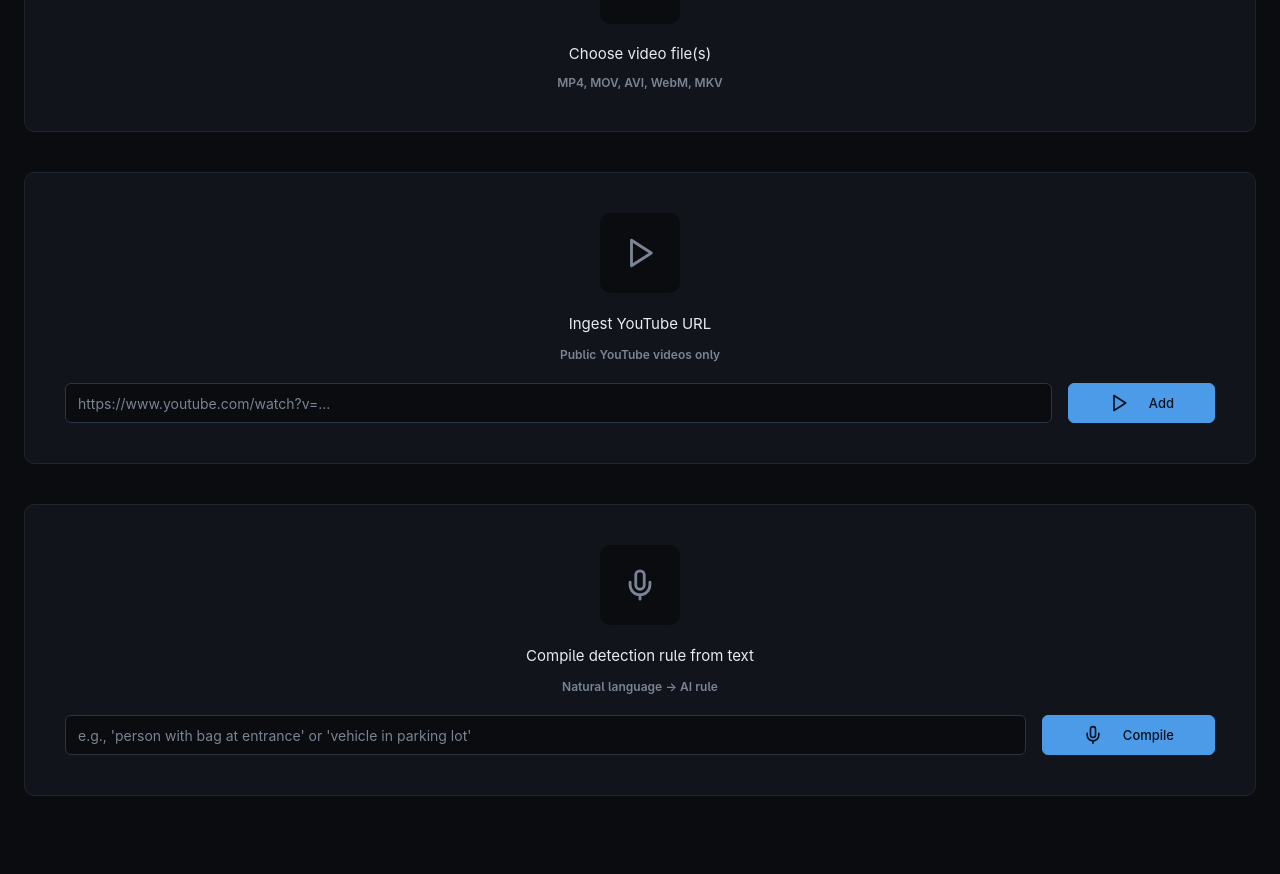
Scenario: the upload page › sends the rule text and the site, and shows the rule the product answered with
(page scrolled)
Type "person with bag at entrance" into the field with placeholder "person with bag at entrance". click: x=545, y=735
box: [65,715,1026,755]
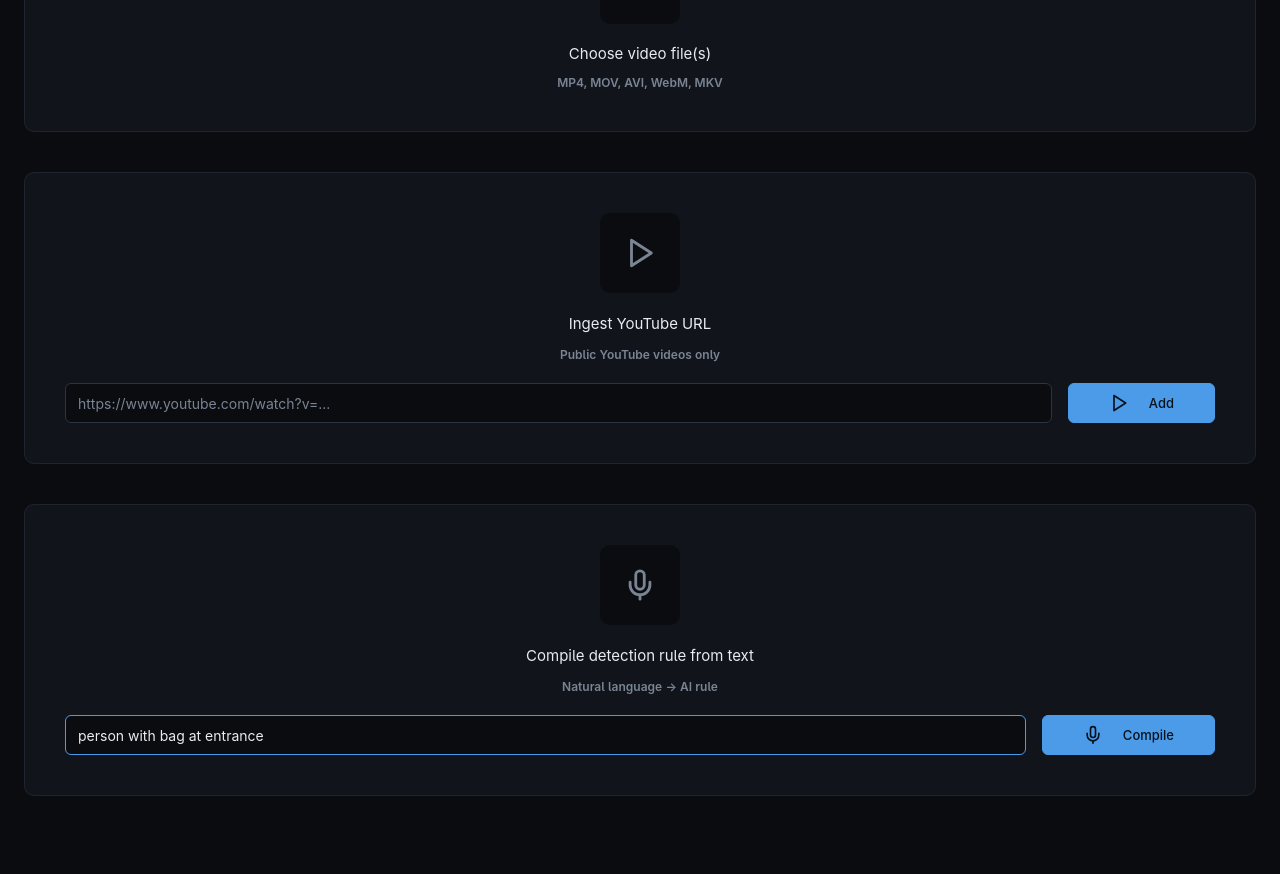
Click the button "Compile". click: x=1128, y=735
box: [1042,715,1215,755]
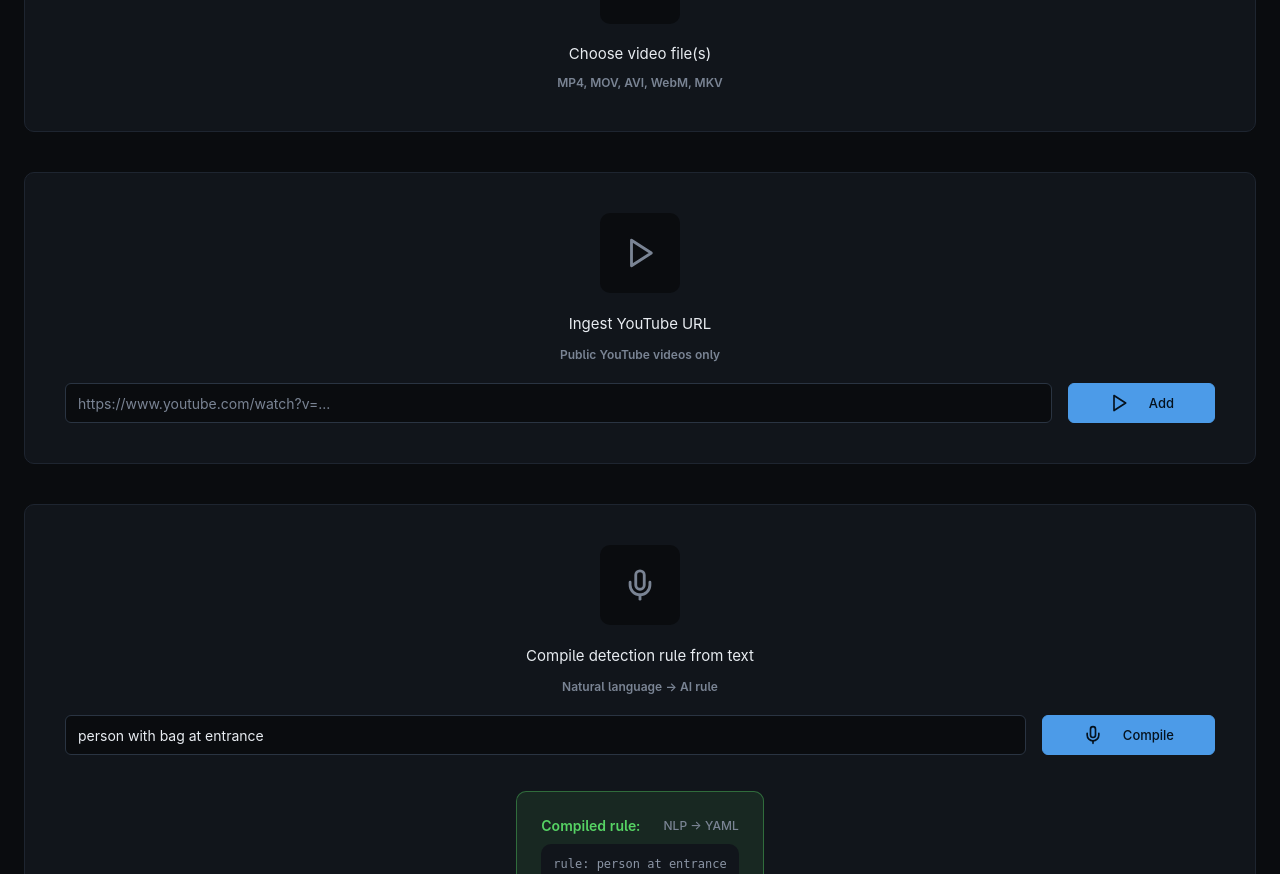
Check: the text "Compiled rule:" is shown, box [541,816,640,836]
